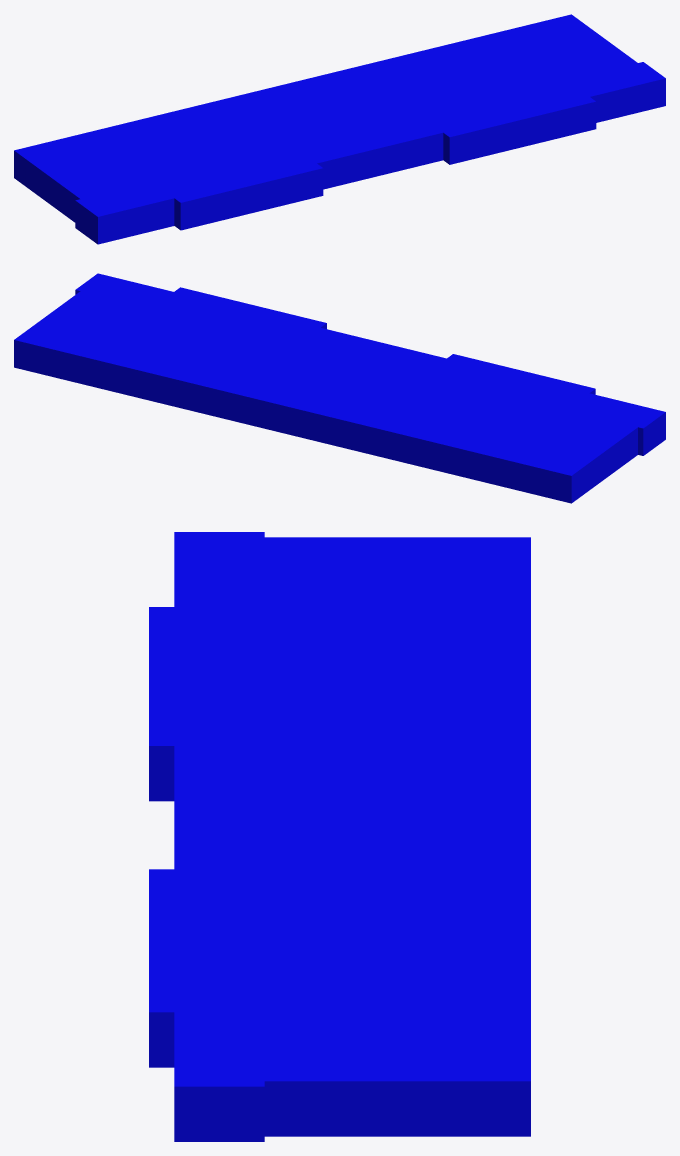
The picture shows the model from 3 angles, top to bottom: view 1: azimuth 30°, elevation 25°; view 2: azimuth 150°, elevation 25°; view 3: azimuth 270°, elevation 25°; orthographic projection. The views are drawn at different scales.
Visible parts, largest first — view 1: group_out_solid_mesh; view 2: group_out_solid_mesh; view 3: group_out_solid_mesh.
Boxes of the visible parts, x1=… form: group_out_solid_mesh: x1=14, y1=14, x2=665, y2=244; group_out_solid_mesh: x1=14, y1=273, x2=665, y2=503; group_out_solid_mesh: x1=149, y1=532, x2=530, y2=1141.
Bounding box in the file's own units: 64549 × 3000 × 18799.
